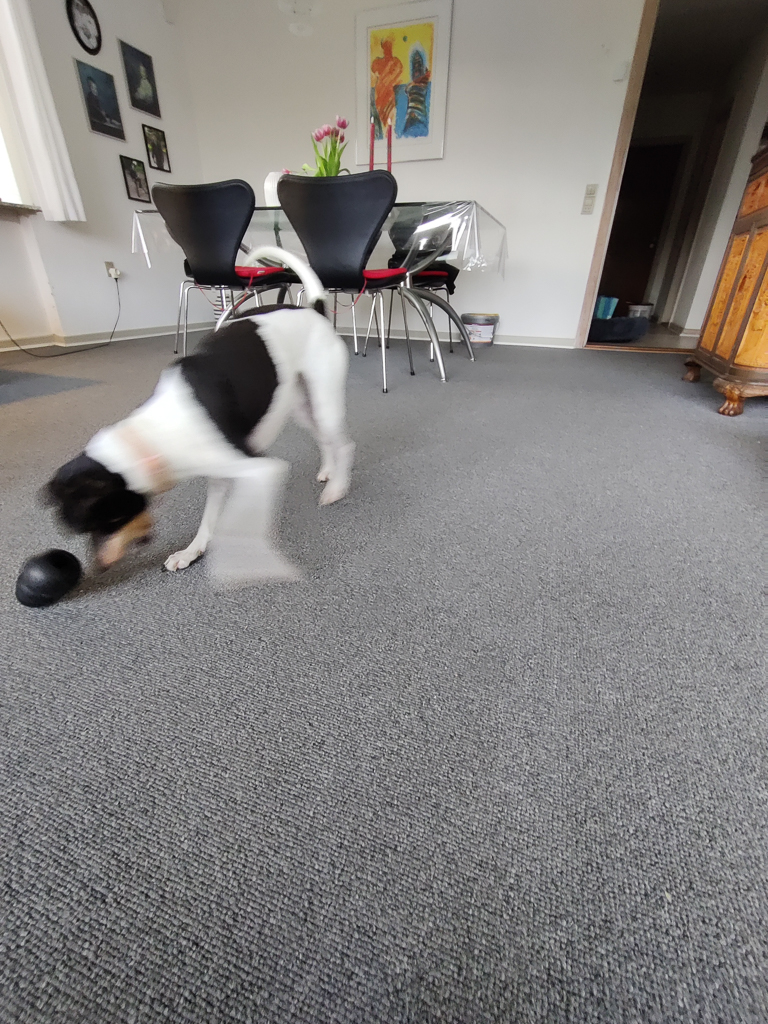Dog: (25, 241, 371, 603)
